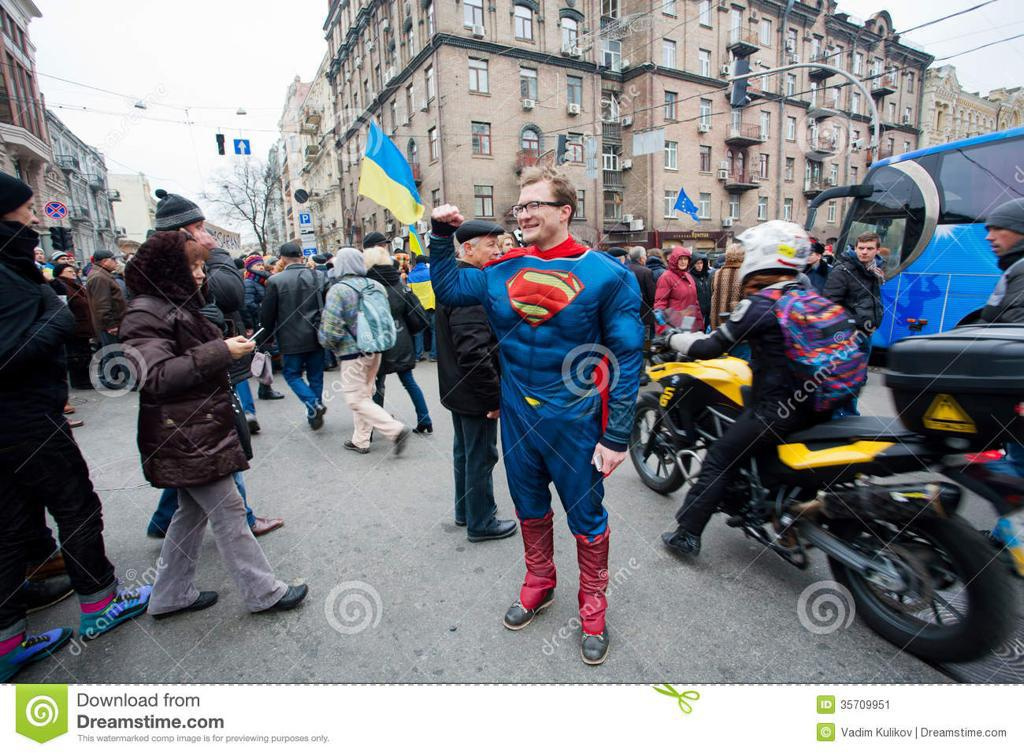face: (517, 183, 561, 242), (8, 201, 38, 243), (985, 226, 1023, 256), (473, 237, 501, 267), (185, 257, 206, 295), (185, 221, 205, 244), (857, 242, 877, 261), (64, 267, 76, 283), (677, 256, 689, 270), (503, 238, 513, 253), (253, 260, 264, 273), (807, 251, 818, 264), (35, 251, 45, 263), (59, 257, 68, 269), (109, 257, 117, 270), (696, 261, 704, 272), (310, 260, 317, 270), (640, 254, 646, 265), (397, 258, 402, 263)
